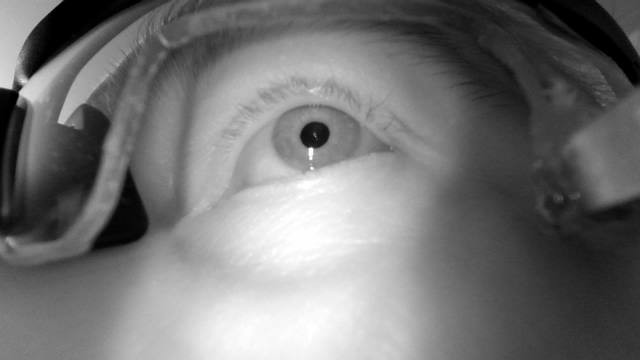pupil: (299, 121, 330, 149)
